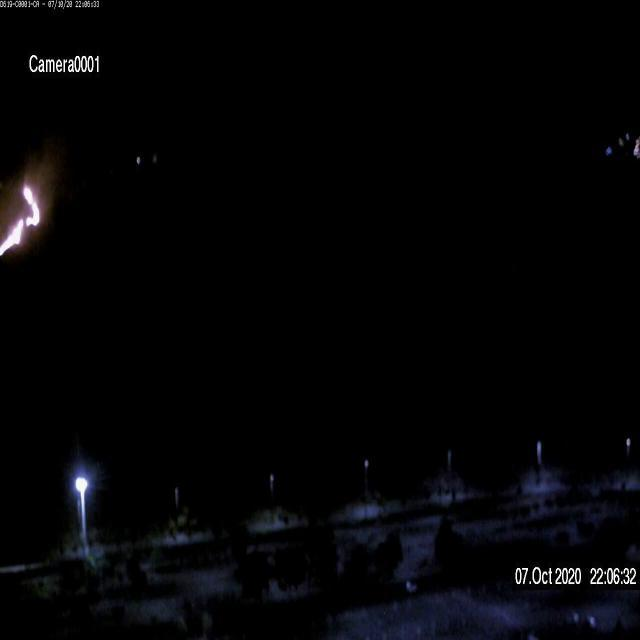Fire: (0, 176, 42, 261)
Smoke: (4, 151, 56, 253)
